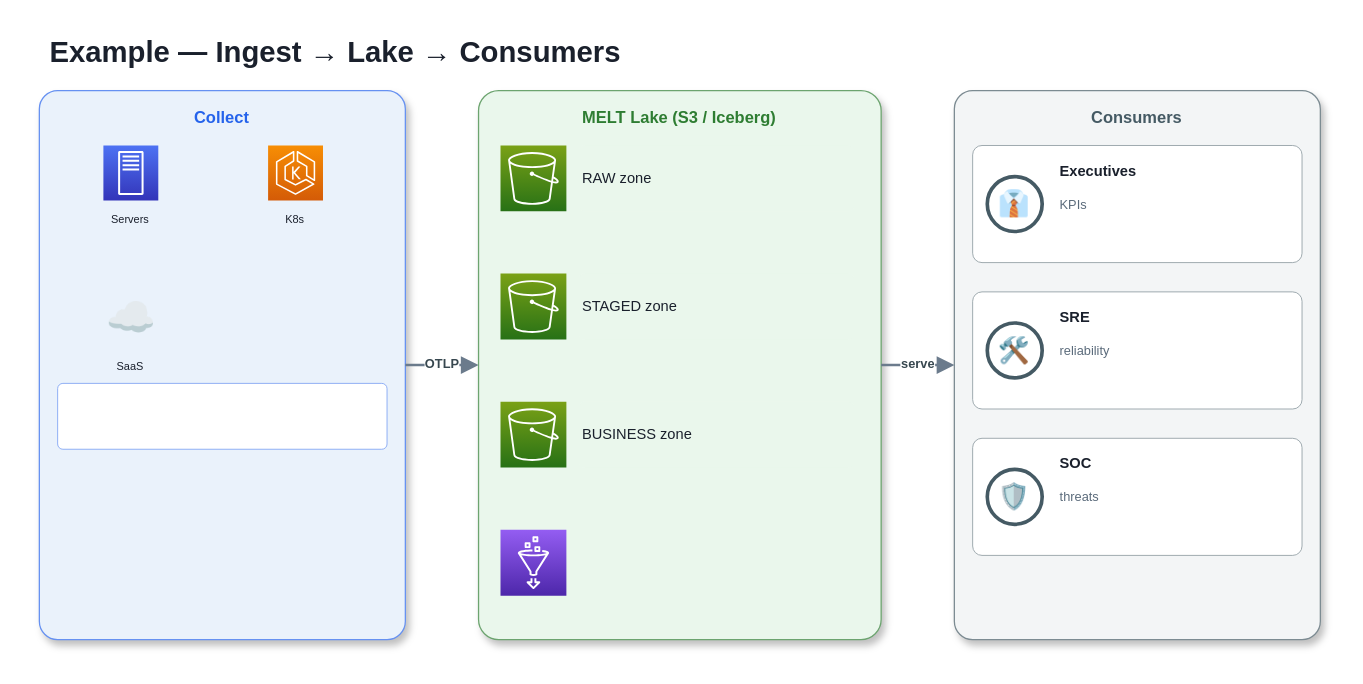
This 1363x684 diagram has some shape labels left out. Each missing label, with the centre of its shape:
"Glue + DQ" belongs at [532,562].
"OpenTelemetry collectors" belongs at [221,415].
